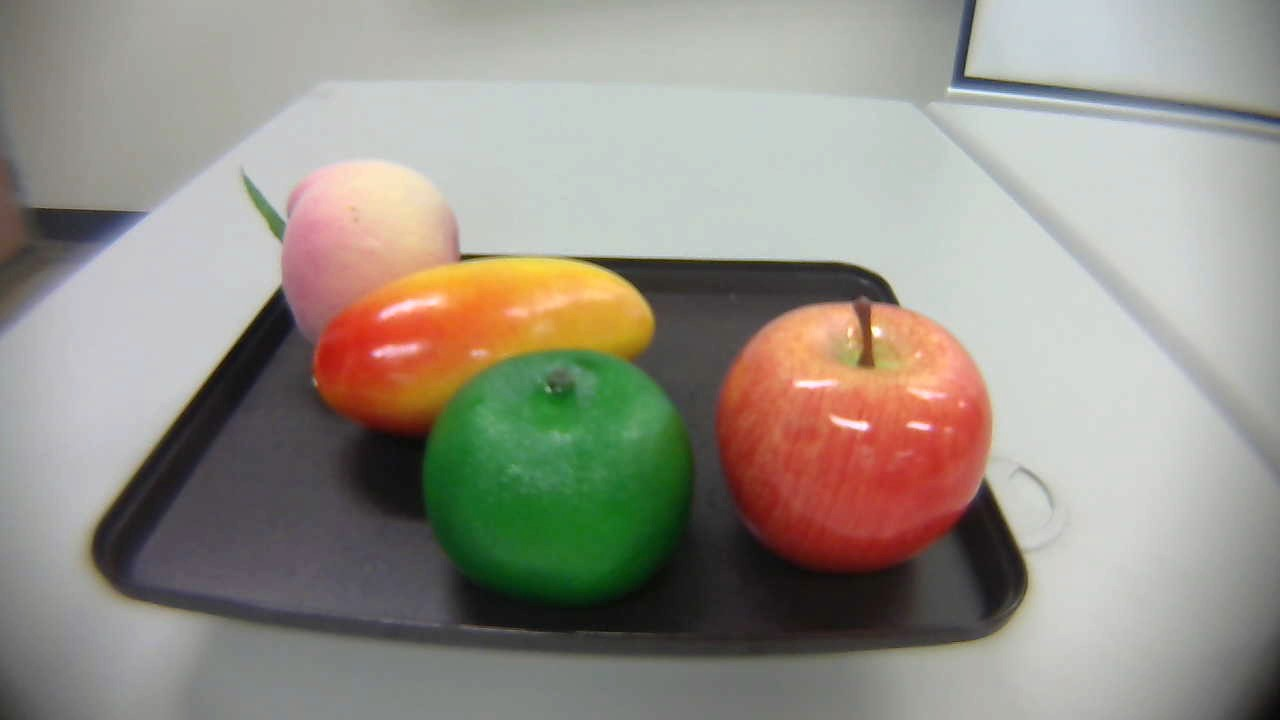green orange: (418, 348, 698, 604)
peach: (227, 151, 472, 348)
red apple: (715, 289, 1007, 576)
red mango: (308, 254, 670, 413)
